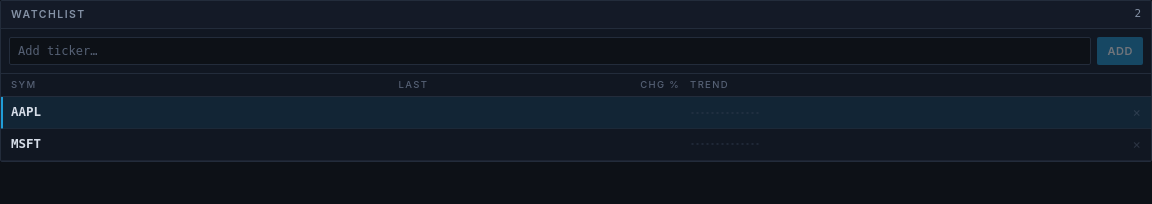
it: Watchlist › shows the server error inline when adding fails
Type "1BAD" into the field with test id "watchlist-add-input" at (550, 51), box top-left (9, 37), bottom-right (1092, 65)
Then press Enter
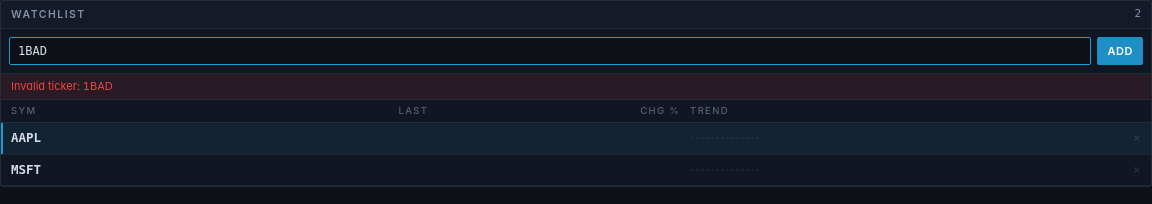
Expected: the text with test id "watchlist-error" reads "Invalid ticker: 1BAD", top-left (11, 79), bottom-right (113, 93)
